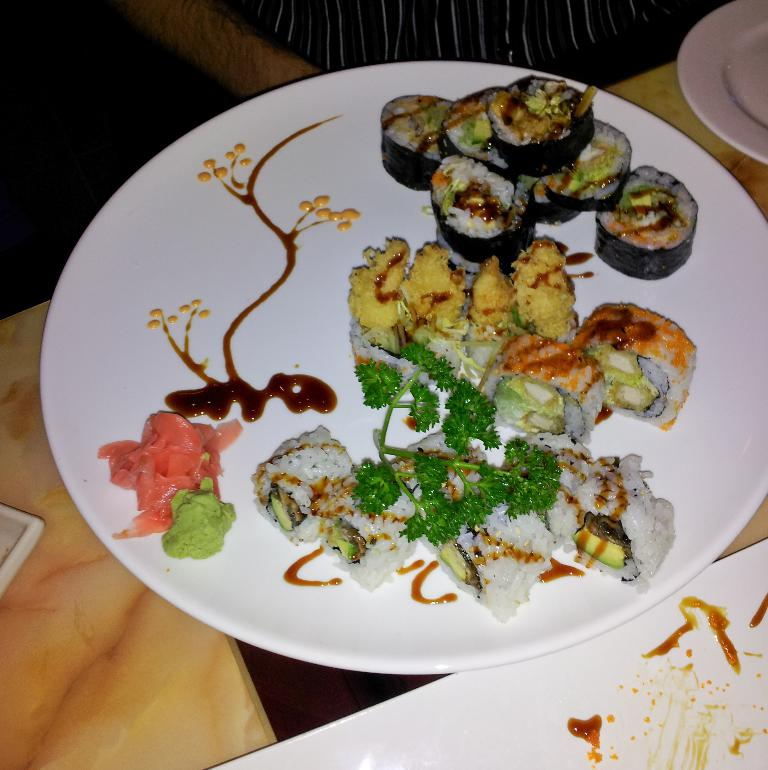plate: (672, 0, 767, 160)
